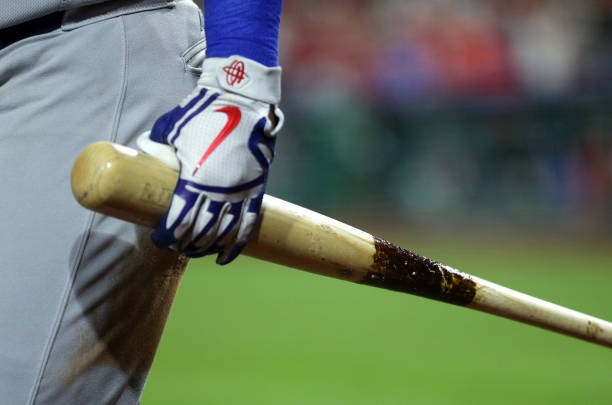bita: (69, 143, 612, 342)
